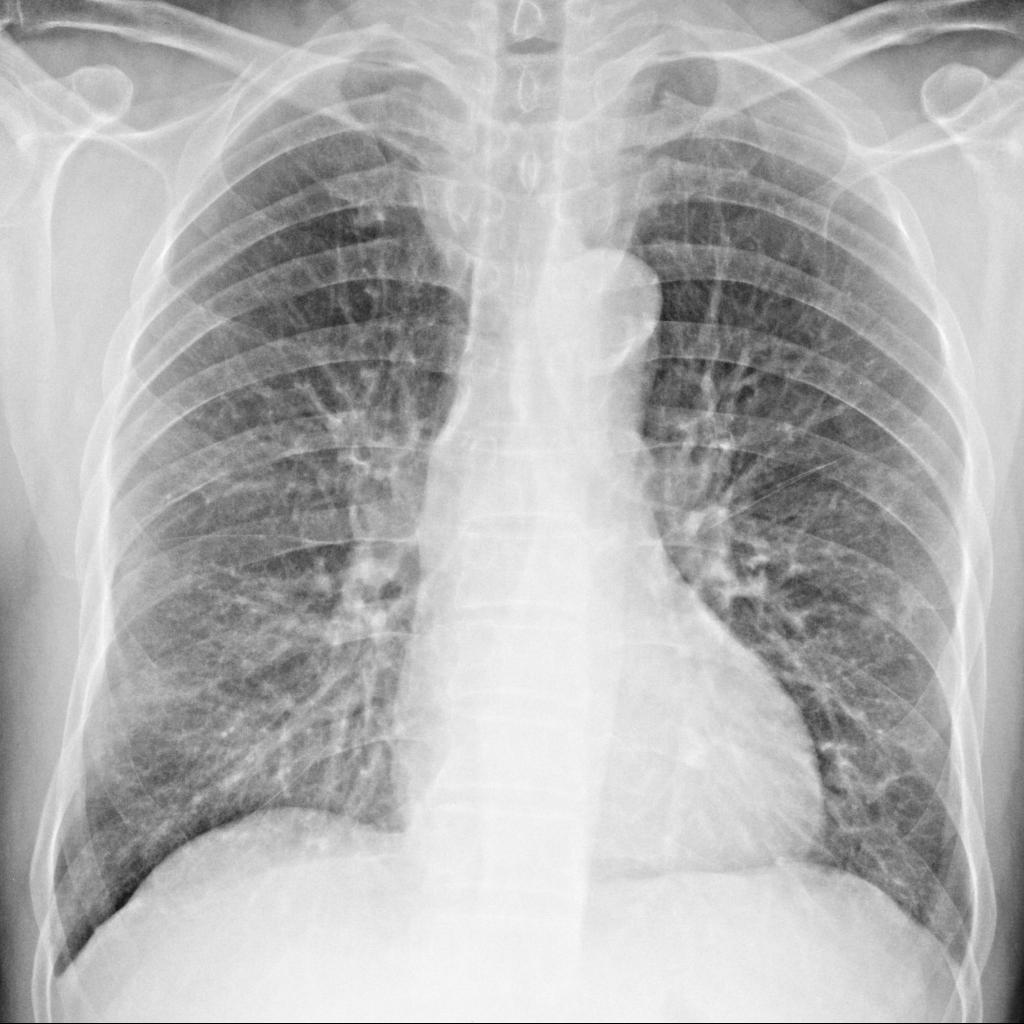Nodule: (675, 728, 711, 765)
